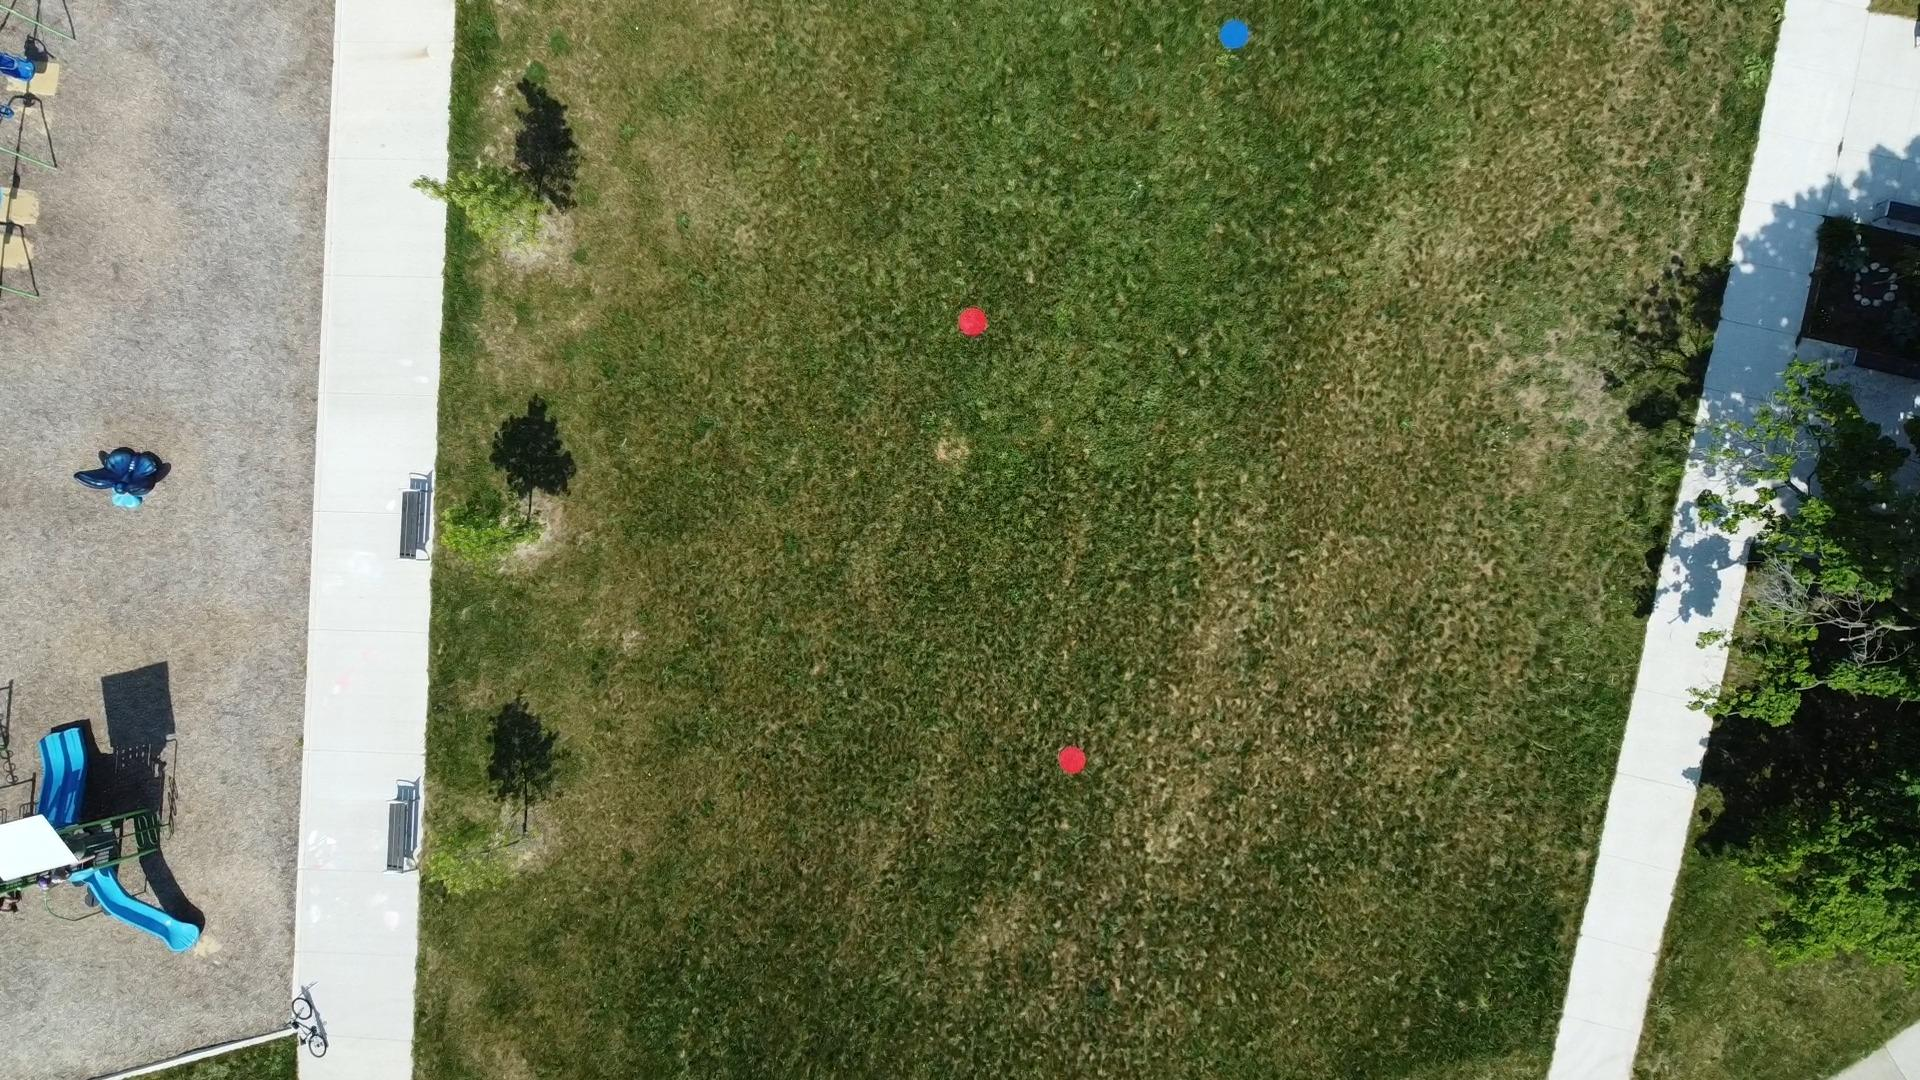Blue: (1217, 20, 1250, 50)
Red: (956, 306, 989, 339), (1058, 744, 1088, 775)
